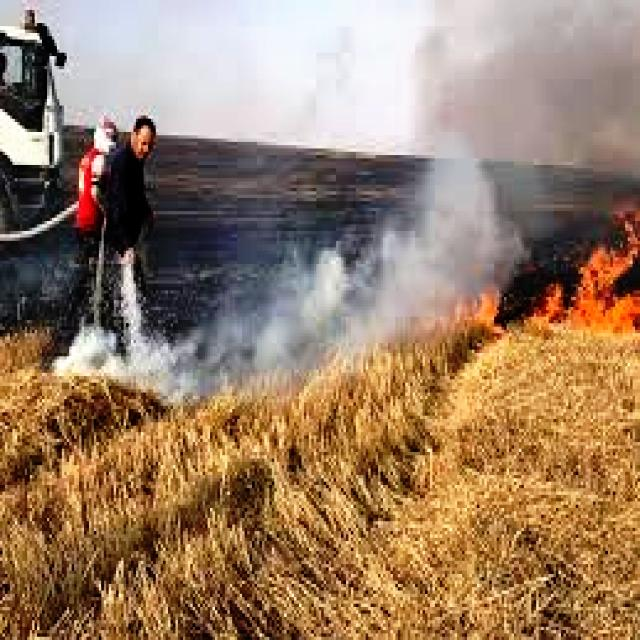api: (567, 212, 638, 339), (480, 285, 506, 332), (541, 283, 561, 323)
asap: (431, 9, 640, 166), (329, 140, 509, 286), (74, 310, 365, 398)
